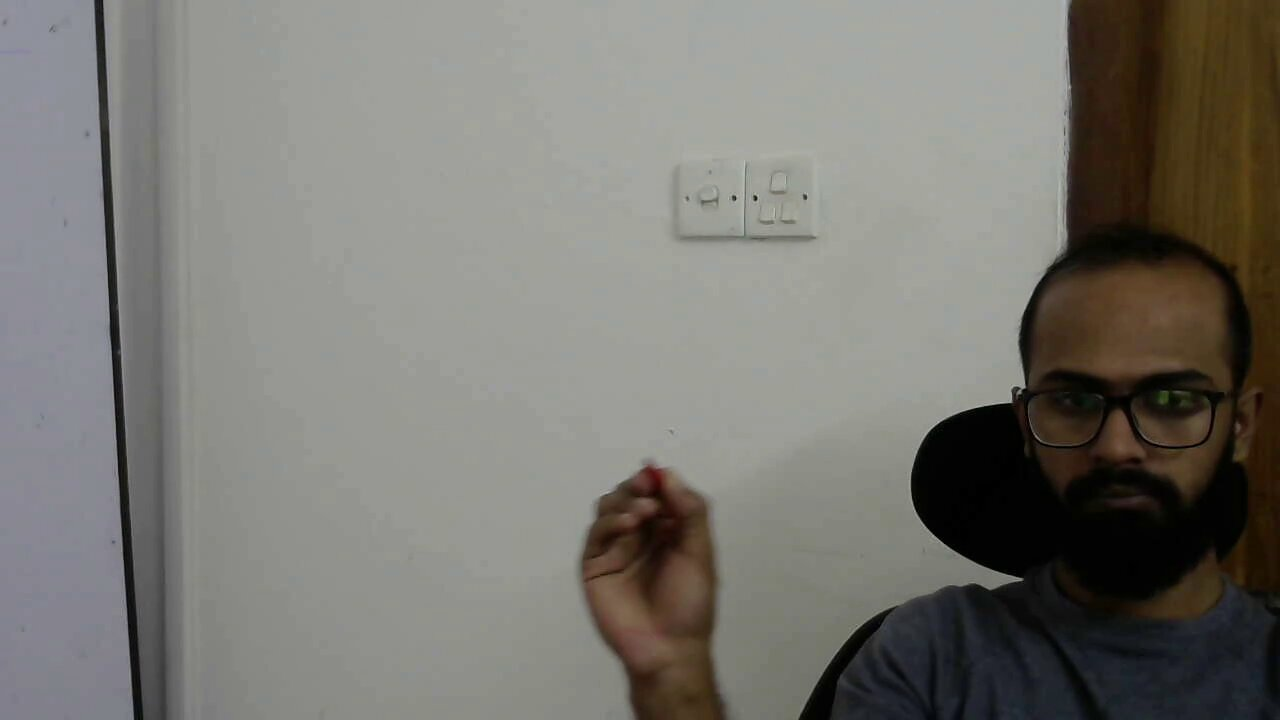pointer: (581, 464, 719, 590)
